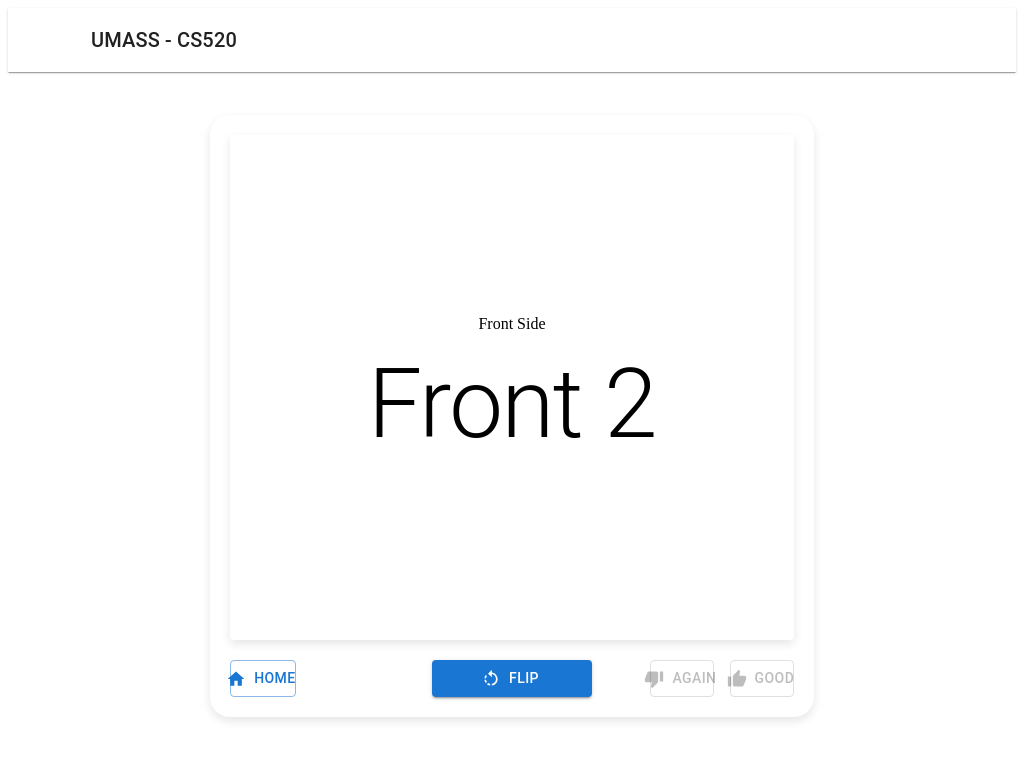
Test: Practice Component › clicking flip button shows back side of card
Click the button "Flip" at (512, 679), box [432,660,592,697]
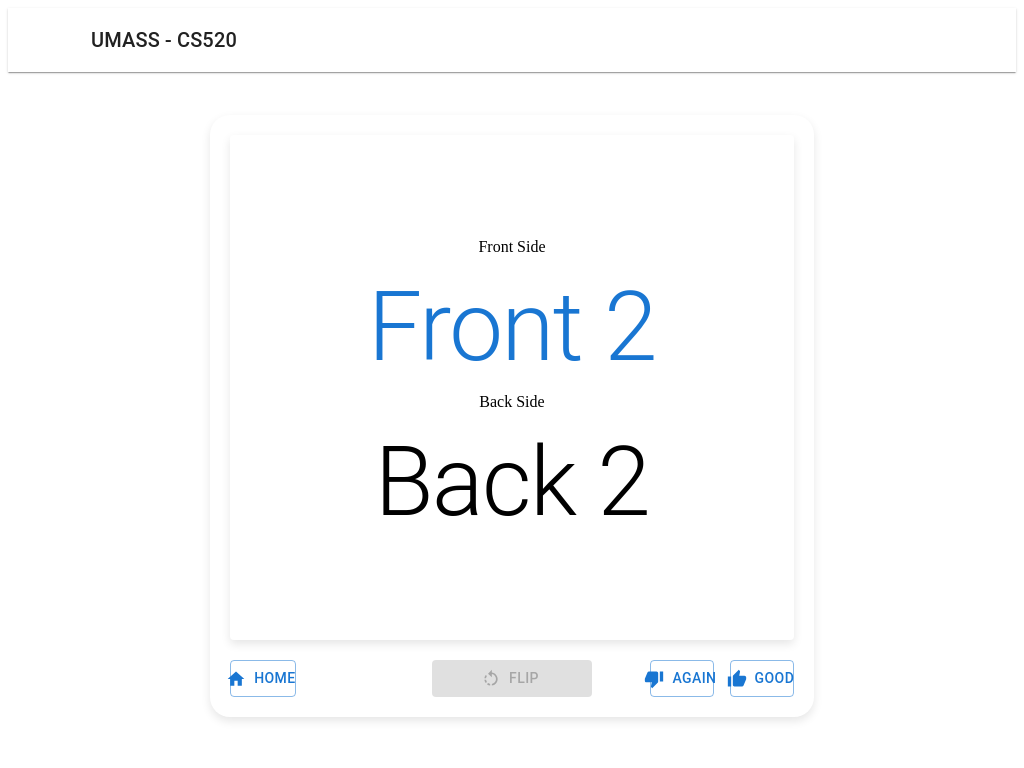
Now the text "Back Side" is shown, box [479,393,545,411]
Now the heading "Back 2" is shown, box [375,426,649,538]
Now the button "Again" is enabled, box [650,660,714,697]
